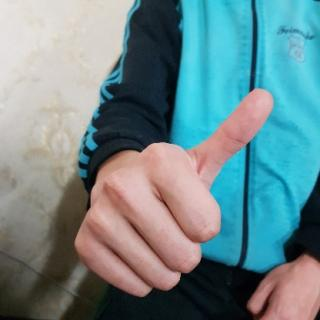ALIF: (70, 82, 276, 310)
